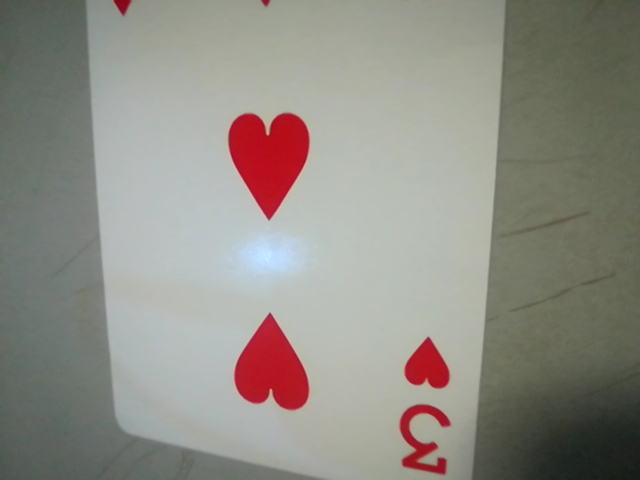hx 3: (385, 326, 466, 480)
